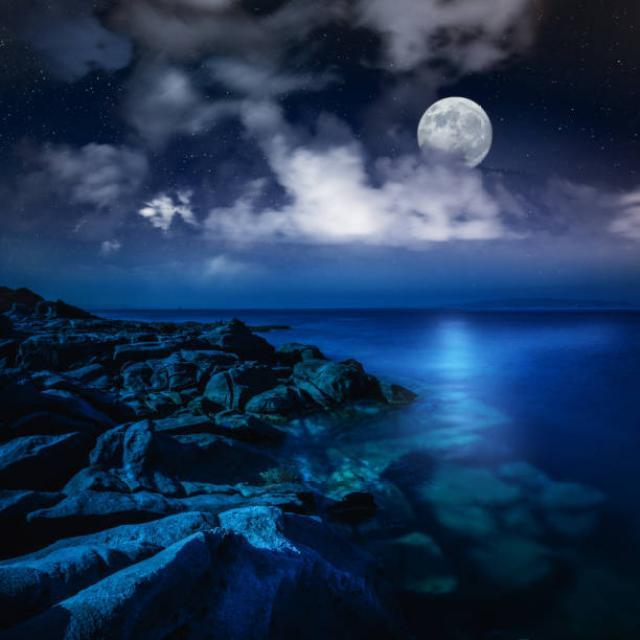moon: (418, 99, 492, 169)
